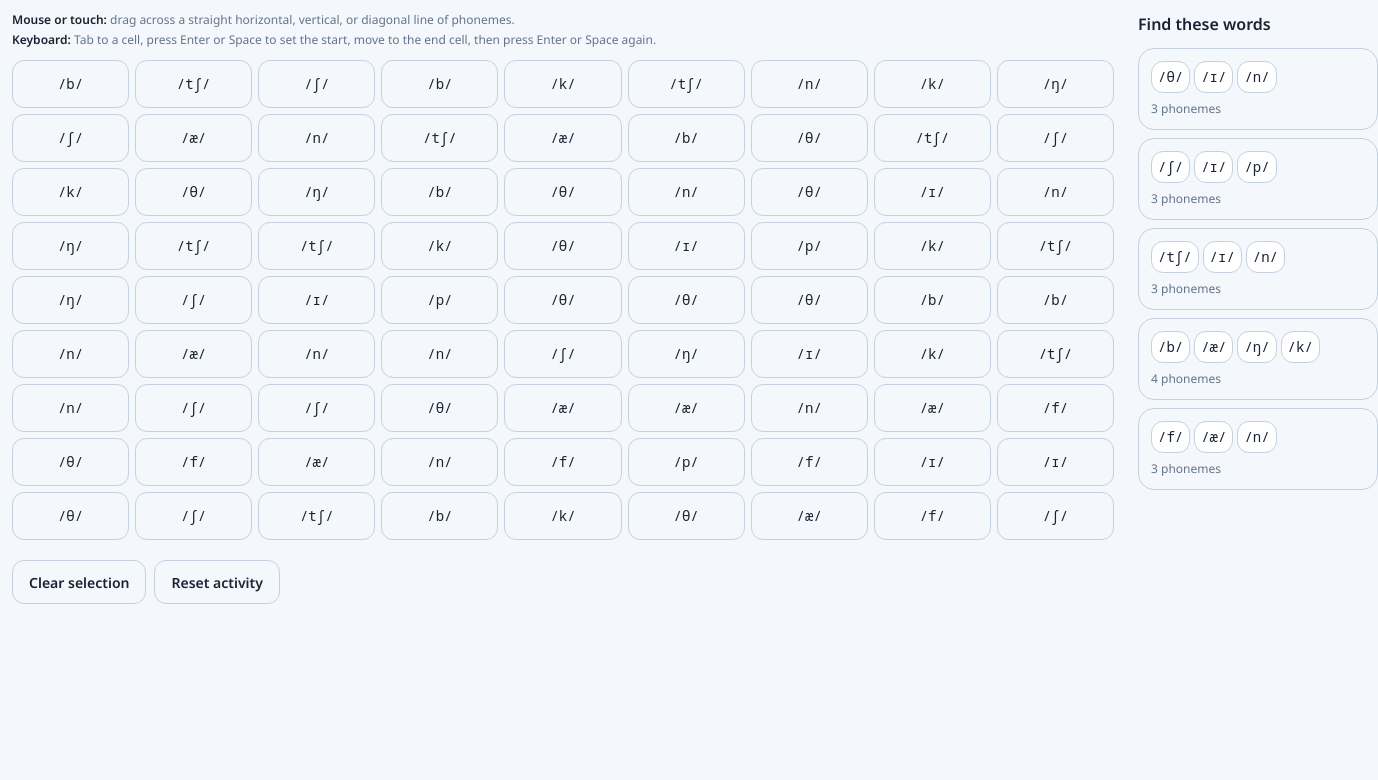
Test: WordSearchGame › finds a word from a straight sequence and can reset
Press the mouse on the 1st button "/b/" at (71, 84), box [12,60,129,108]
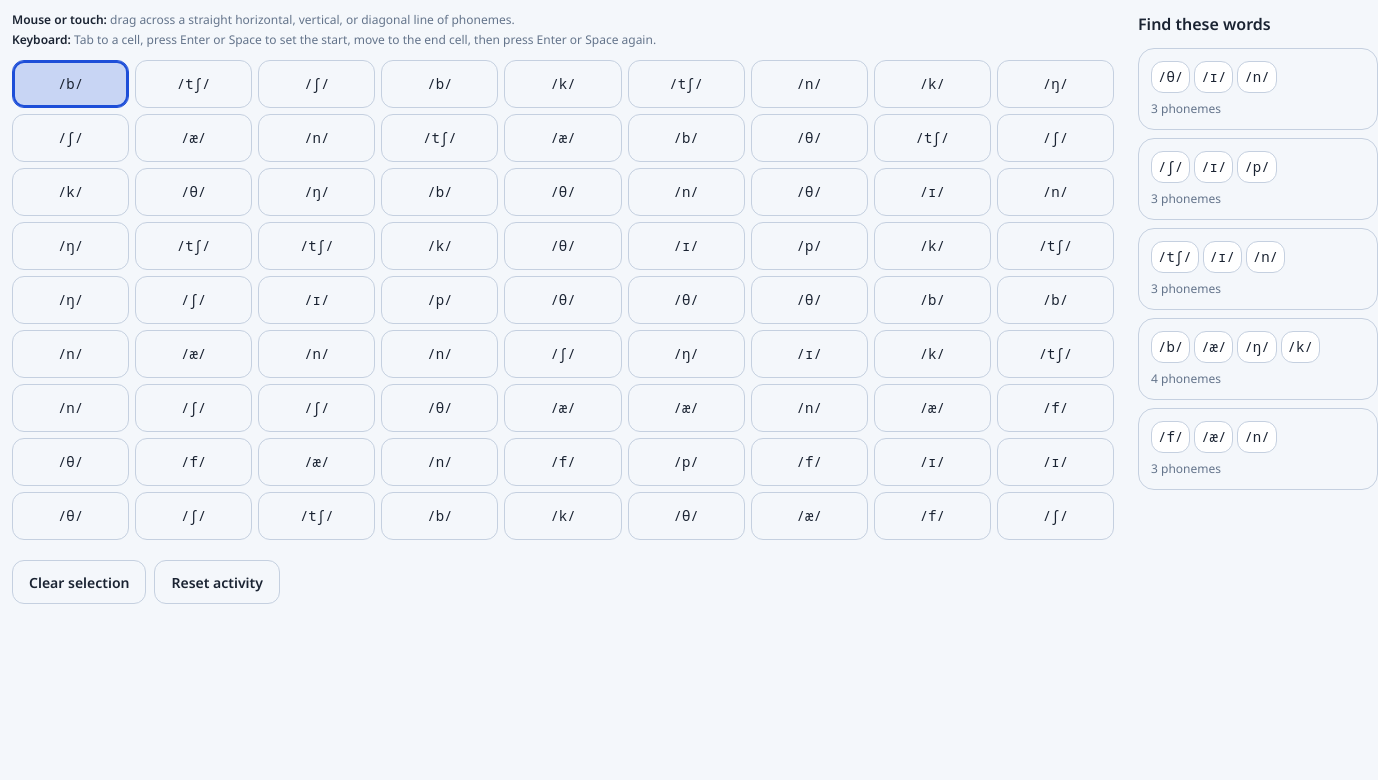
Hover over the 1st button "/æ/" at (194, 138), box [135,114,252,162]
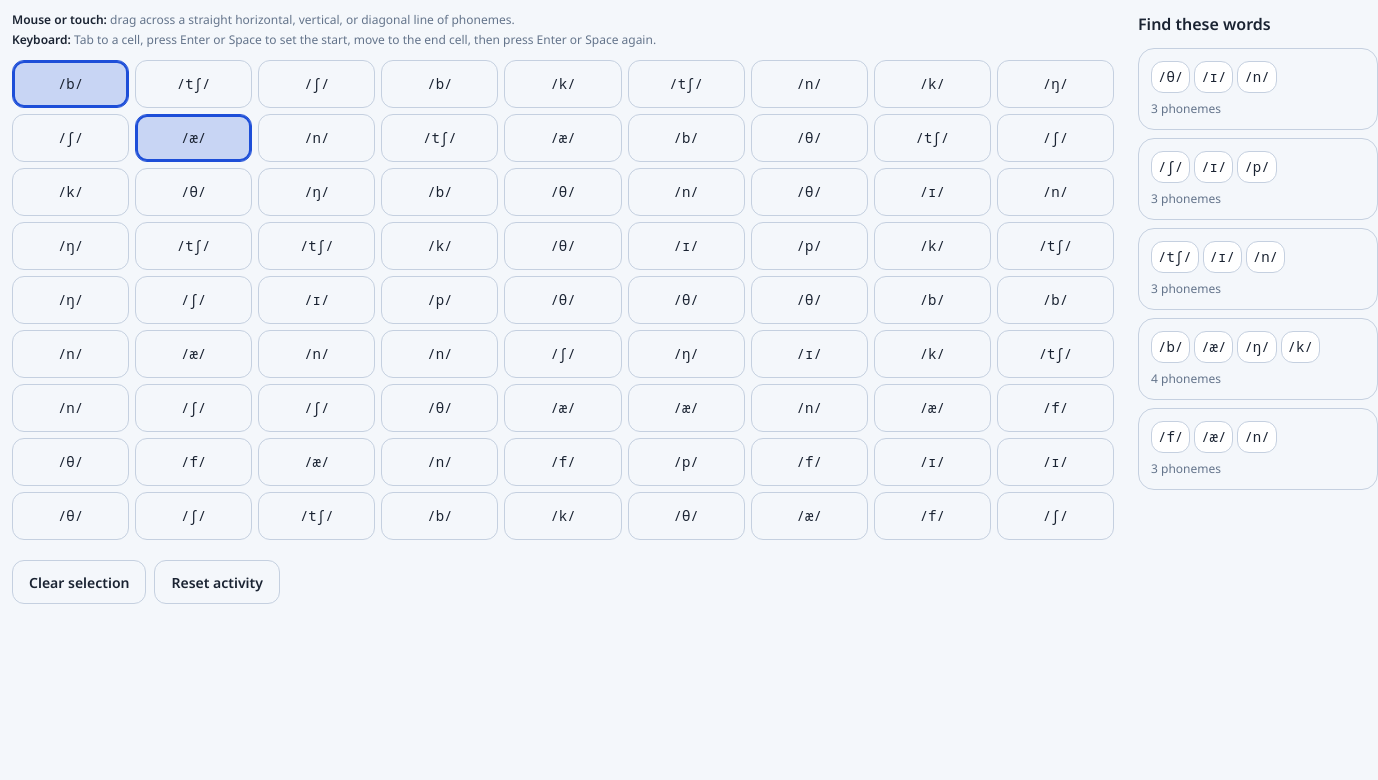
Hover over the 2nd button "/ŋ/" at (317, 192), box [258,168,375,216]
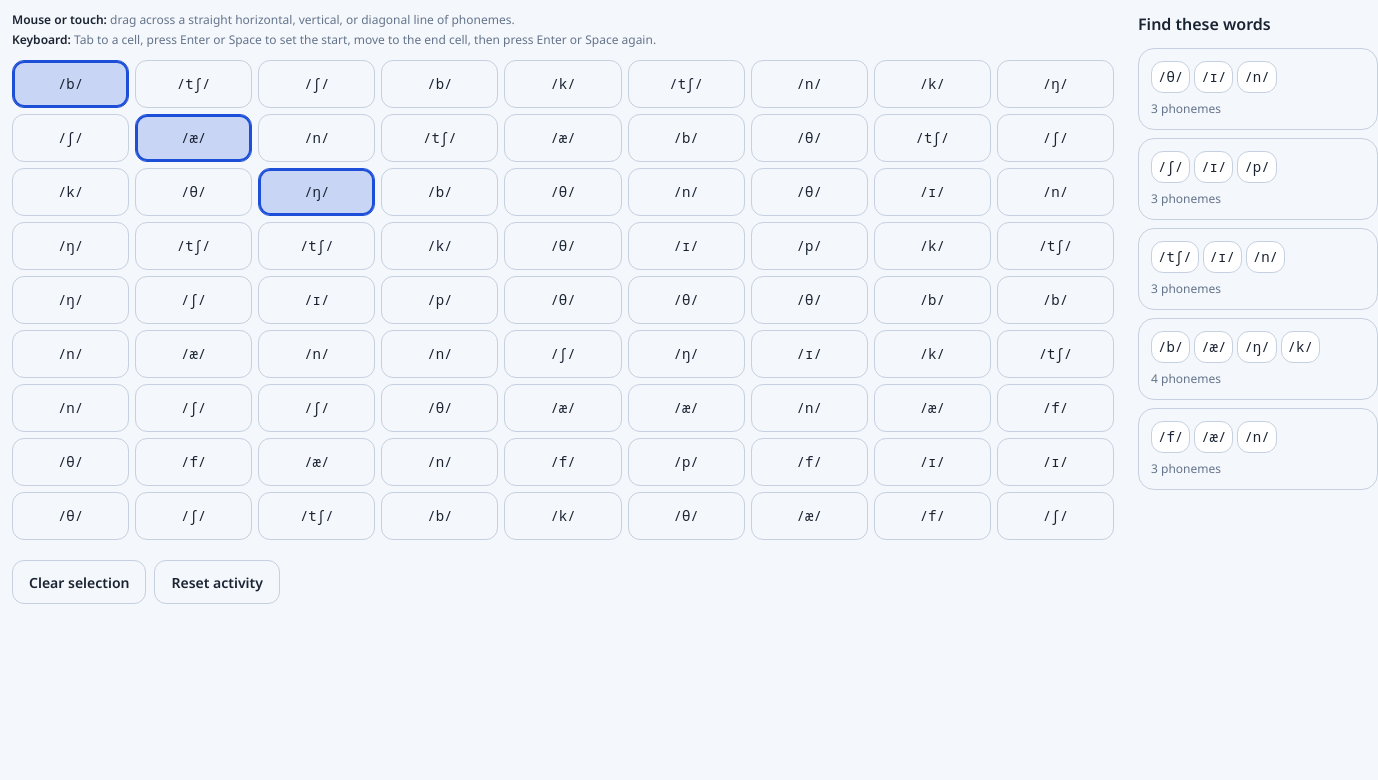
Hover over the 4th button "/k/" at (440, 246), box [381,222,498,270]
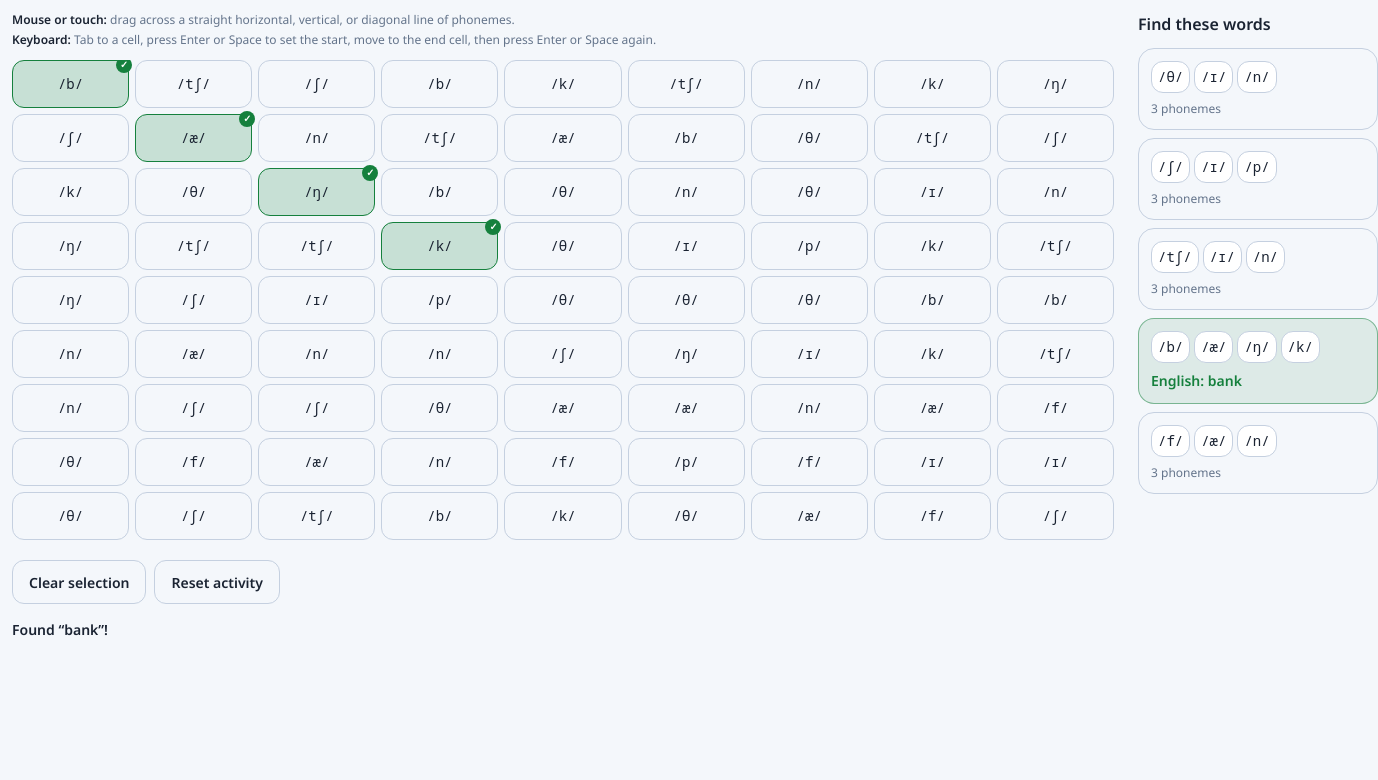
Check: the message shows "bank", box [12,620,108,639]
Click the button "Reset activity" at (217, 582), box [154,560,280,604]
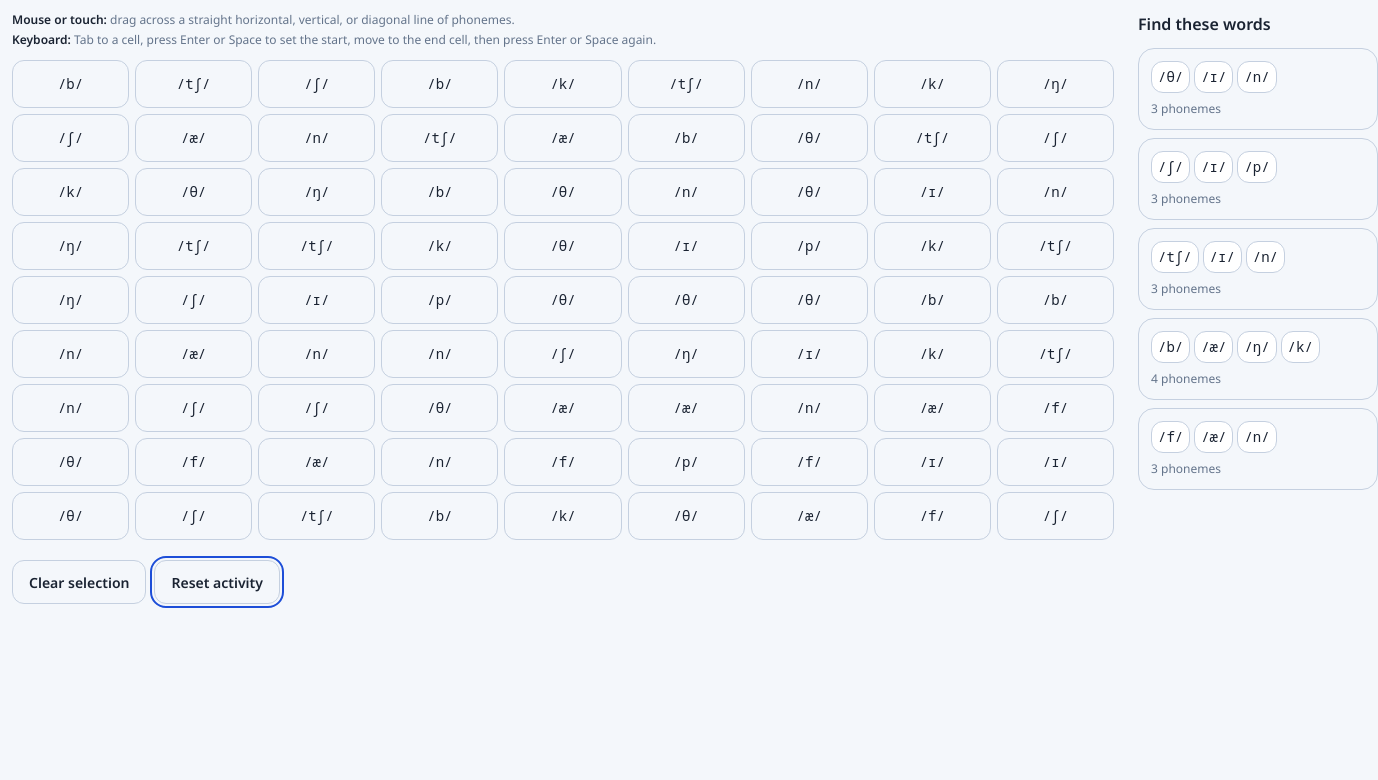
Check: the message is empty, box [12,620,1377,644]
Check: the text "English:" is gone
